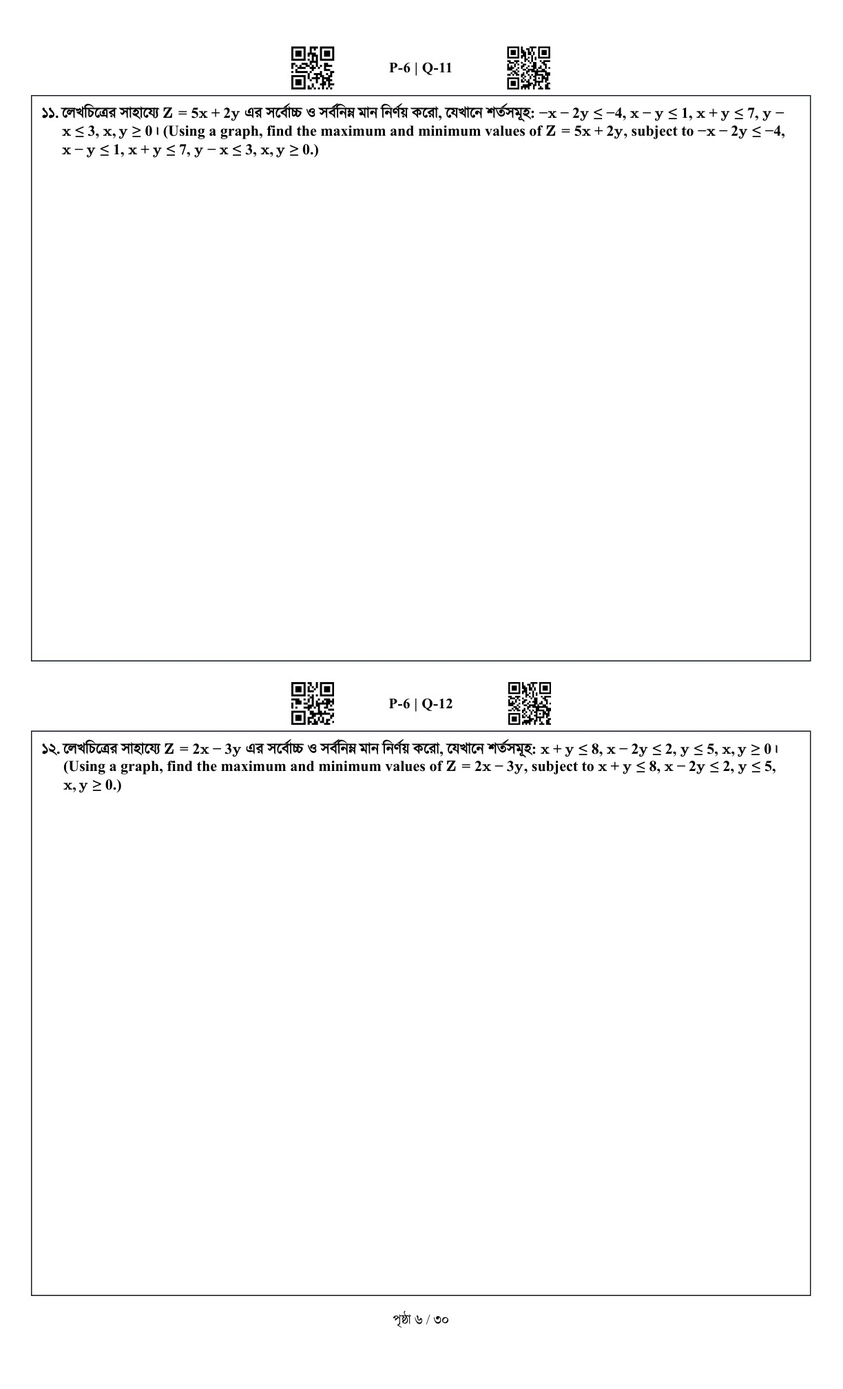question: (37, 735, 784, 800), (37, 100, 791, 164)
